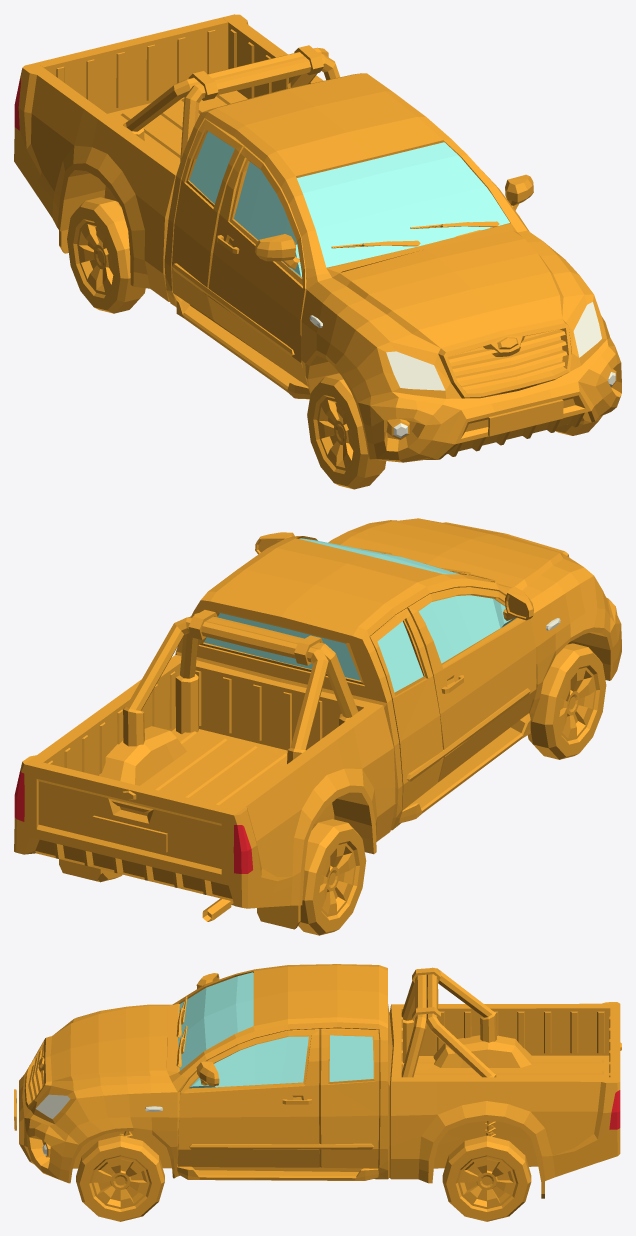
Rendered from SM_Car_Pickup_Modern.fbx.
3 renders of one model, top to bottom at view 1: azimuth 30°, elevation 25°; view 2: azimuth 150°, elevation 25°; view 3: azimuth 270°, elevation 25°, orthographic. The views are drawn at different scales.
Visible parts, largest first — view 1: pickup-modern-base, pickup-modern-door-rfr, pickup-modern-trunk, pickup-modern-door-rba, pickup-modern-wheels-rba, pickup-modern-wheels-rfr, pickup-modern-door-lfr; view 2: pickup-modern-base, pickup-modern-door-rfr, pickup-modern-trunk, pickup-modern-door-rba, pickup-modern-wheels-rfr, pickup-modern-wheels-rba; view 3: pickup-modern-base, pickup-modern-door-lfr, pickup-modern-door-lba, pickup-modern-wheels-lba, pickup-modern-wheels-lfr, pickup-modern-trunk.
Part boxes in pixels (left/top/right/bottom): pickup-modern-base: left=14, top=14, right=621, bottom=462; pickup-modern-door-rfr: left=206, top=146, right=307, bottom=386; pickup-modern-trunk: left=37, top=17, right=228, bottom=113; pickup-modern-door-rba: left=172, top=119, right=244, bottom=319; pickup-modern-wheels-rba: left=67, top=197, right=145, bottom=313; pickup-modern-wheels-rfr: left=307, top=373, right=386, bottom=489; pickup-modern-door-lfr: left=505, top=174, right=533, bottom=210; pickup-modern-base: left=14, top=518, right=621, bottom=929; pickup-modern-door-rfr: left=407, top=587, right=536, bottom=781; pickup-modern-trunk: left=36, top=762, right=227, bottom=874; pickup-modern-door-rba: left=369, top=608, right=445, bottom=810; pickup-modern-wheels-rfr: left=528, top=643, right=606, bottom=759; pickup-modern-wheels-rba: left=298, top=819, right=366, bottom=935; pickup-modern-base: left=14, top=964, right=620, bottom=1198; pickup-modern-door-lfr: left=177, top=1029, right=319, bottom=1167; pickup-modern-door-lba: left=319, top=1028, right=379, bottom=1168; pickup-modern-wheels-lba: left=442, top=1135, right=531, bottom=1221; pickup-modern-wheels-lfr: left=76, top=1135, right=164, bottom=1221; pickup-modern-trunk: left=609, top=1008, right=621, bottom=1077.
Size of the model in its own units: 2.14 by 1.82 by 5.32.
